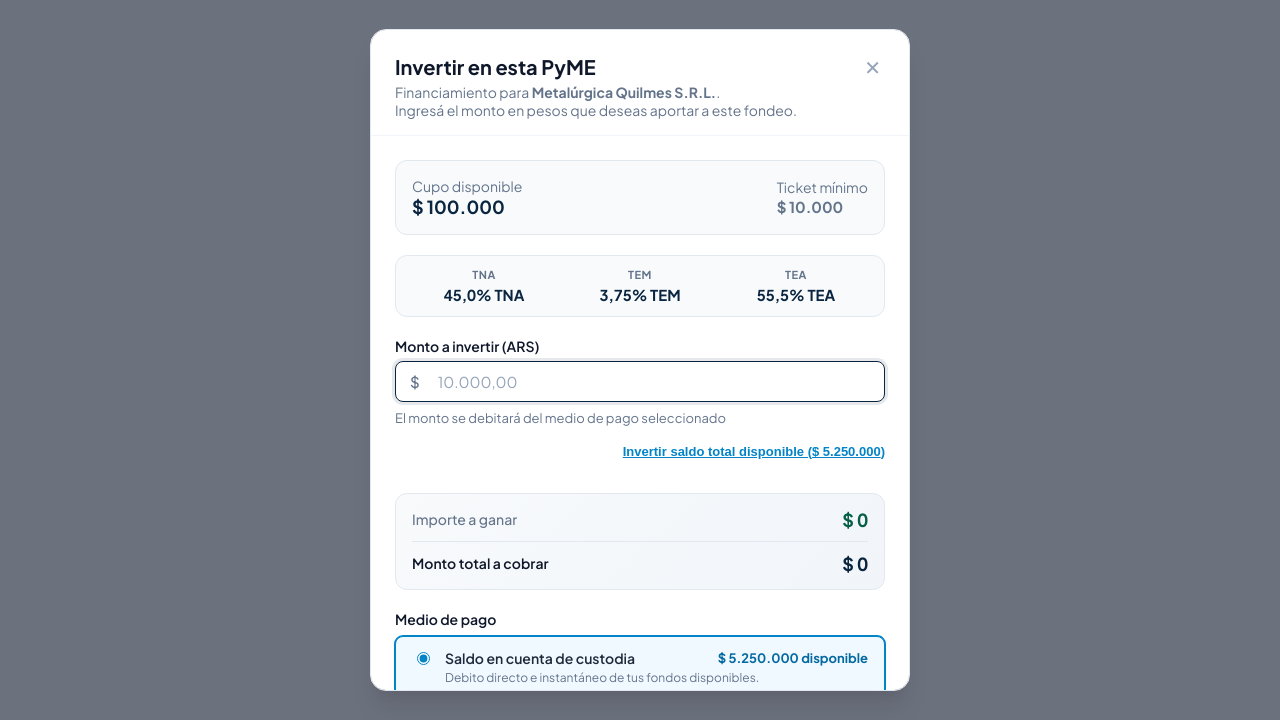
Test case: InvestmentModal Component (Task 10) › displays fully funded banner when commitment completes 100% of the loan
The image size is (1280, 720).
Commit full $100.000
Type "100000" into the field with test id "investment-amount-input" at (654, 381), box [424, 362, 884, 401]
(page scrolled)
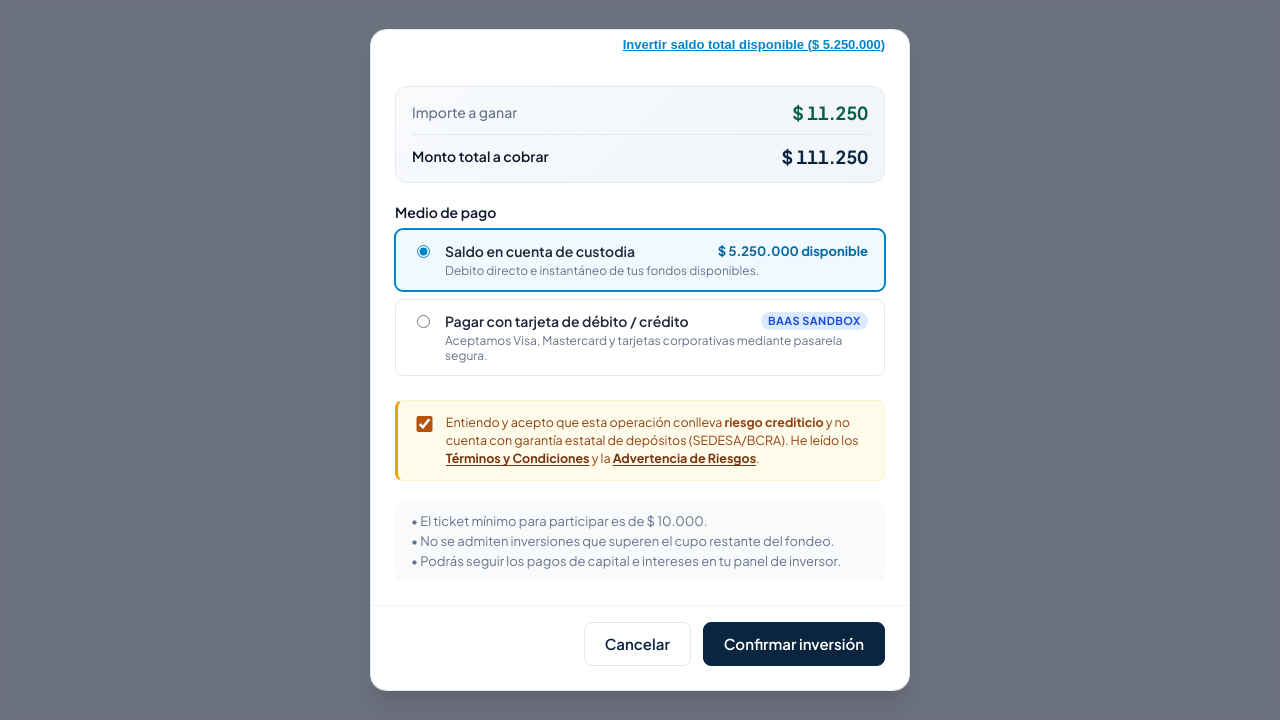
Click the button with test id "modal-confirm-button" at (794, 644), box [703, 622, 885, 666]
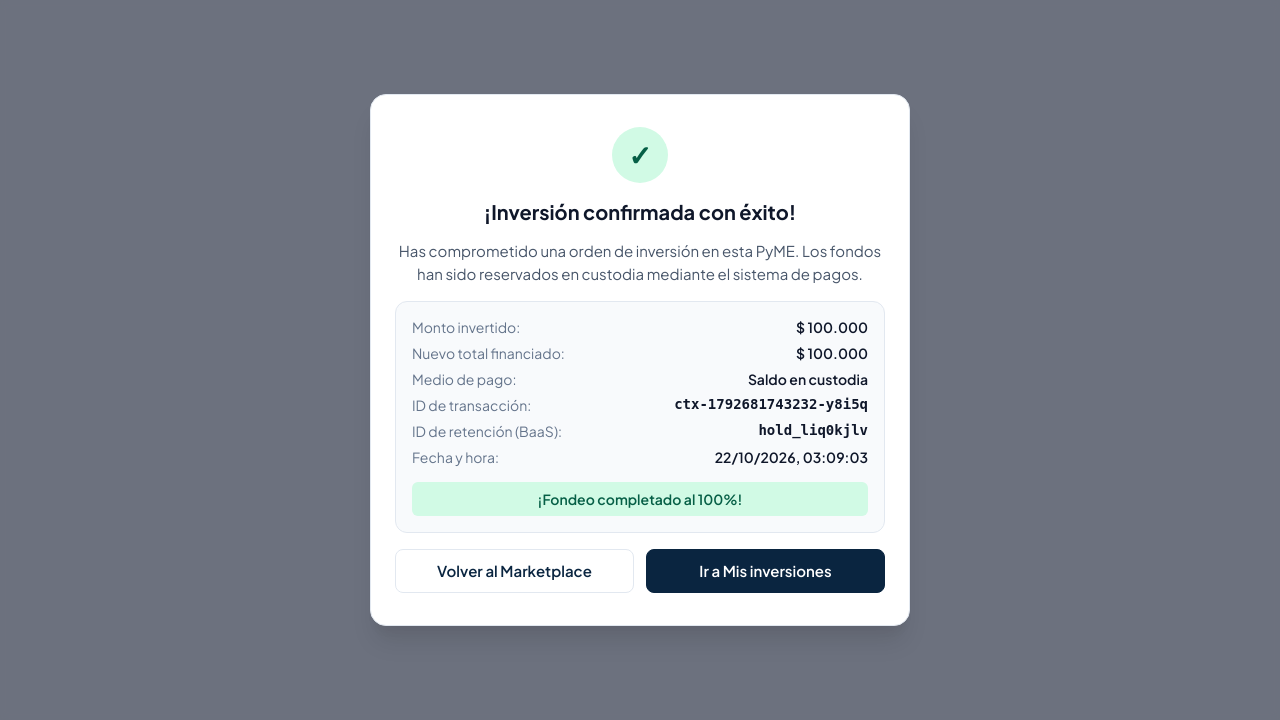
Now the text "¡Fondeo completado al 100%!" is shown, box [412, 482, 868, 516]
